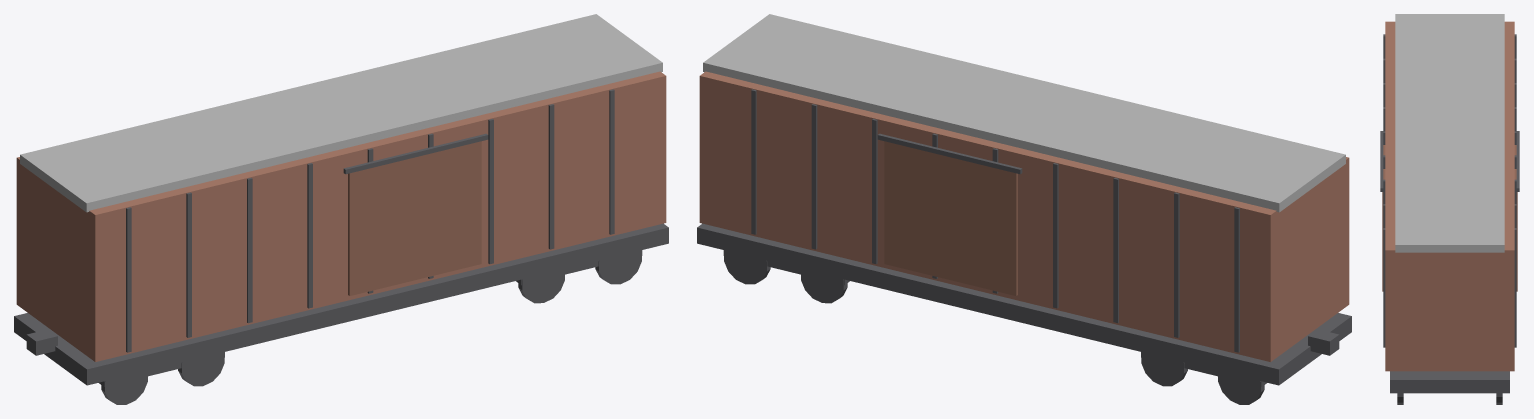
File: dm_traincar.glb
3 renders of one model, left to right at view 1: azimuth 30°, elevation 25°; view 2: azimuth 150°, elevation 25°; view 3: azimuth 270°, elevation 25°, orthographic. The views are drawn at different scales.
Parts seen in each view (by area): view 1: dm_traincar; view 2: dm_traincar; view 3: dm_traincar.
Boxes of the visible parts, x1,y1,x2,y2 form: dm_traincar: (14,14,668,404); dm_traincar: (697,14,1351,404); dm_traincar: (1380,14,1519,404).
Size of the model in its own units: 11.3 by 3.7 by 2.68.
